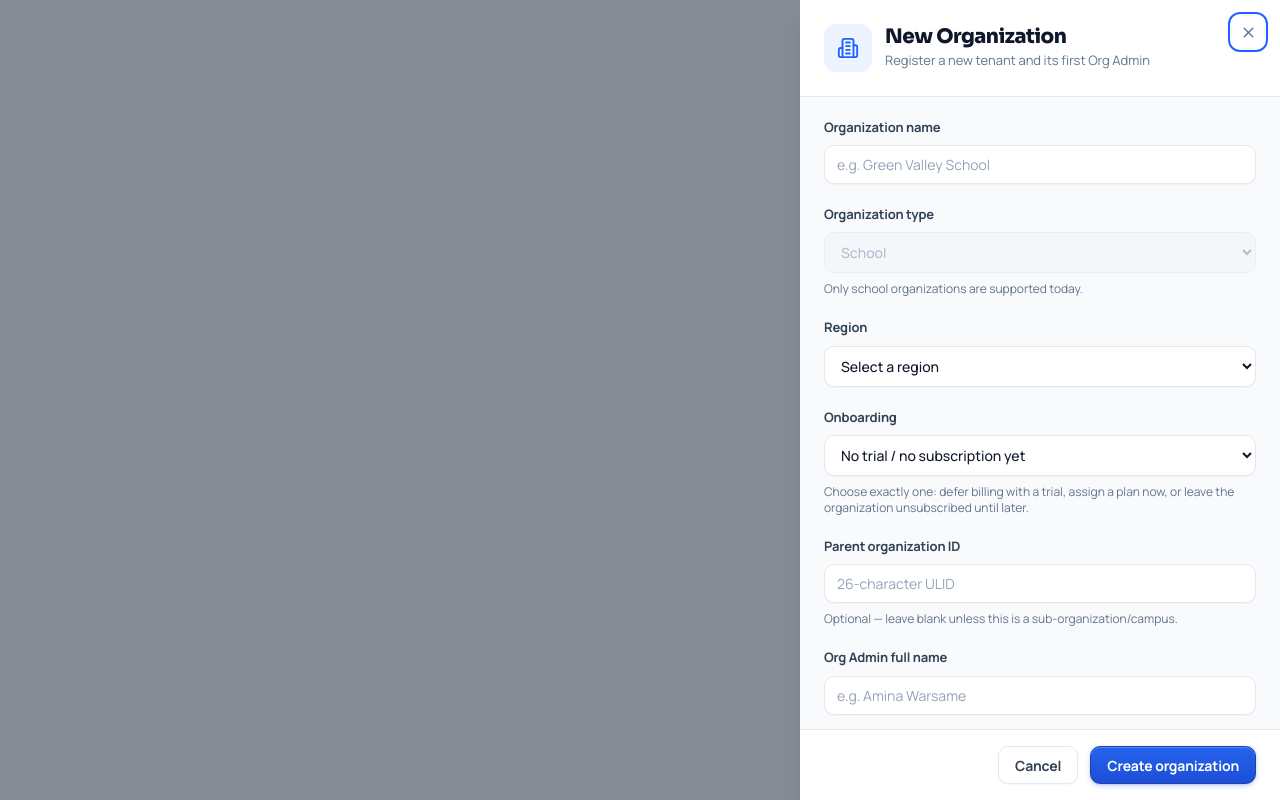
Test case: CreateOrganizationForm › requires at least one of Org Admin email or phone
Type "Green Valley School" into the field with placeholder "e.g. Green Valley School".
click(1040, 165); type("Green Valley School")  # box [824,145,1256,184]
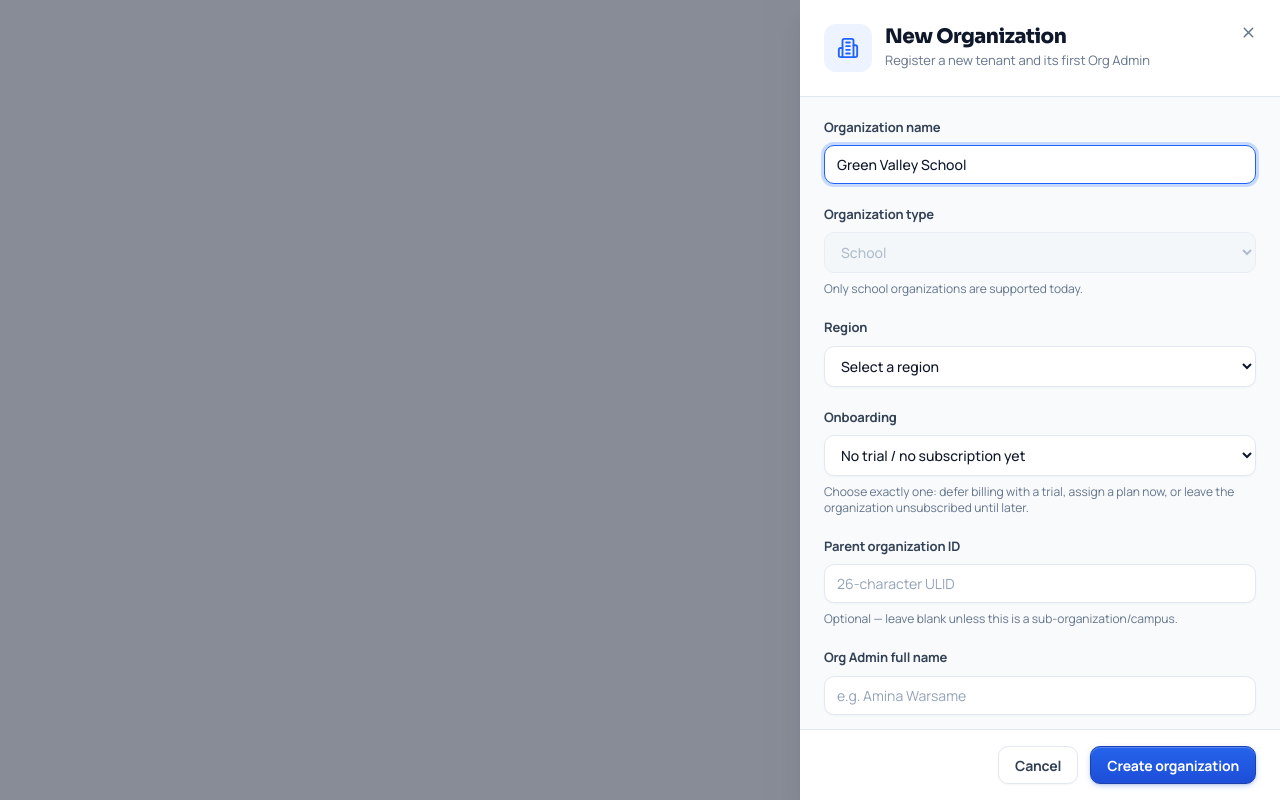
Select "Northern Region" in the dropdown labelled "Region" at (1040, 366), box [824,346,1256,387]
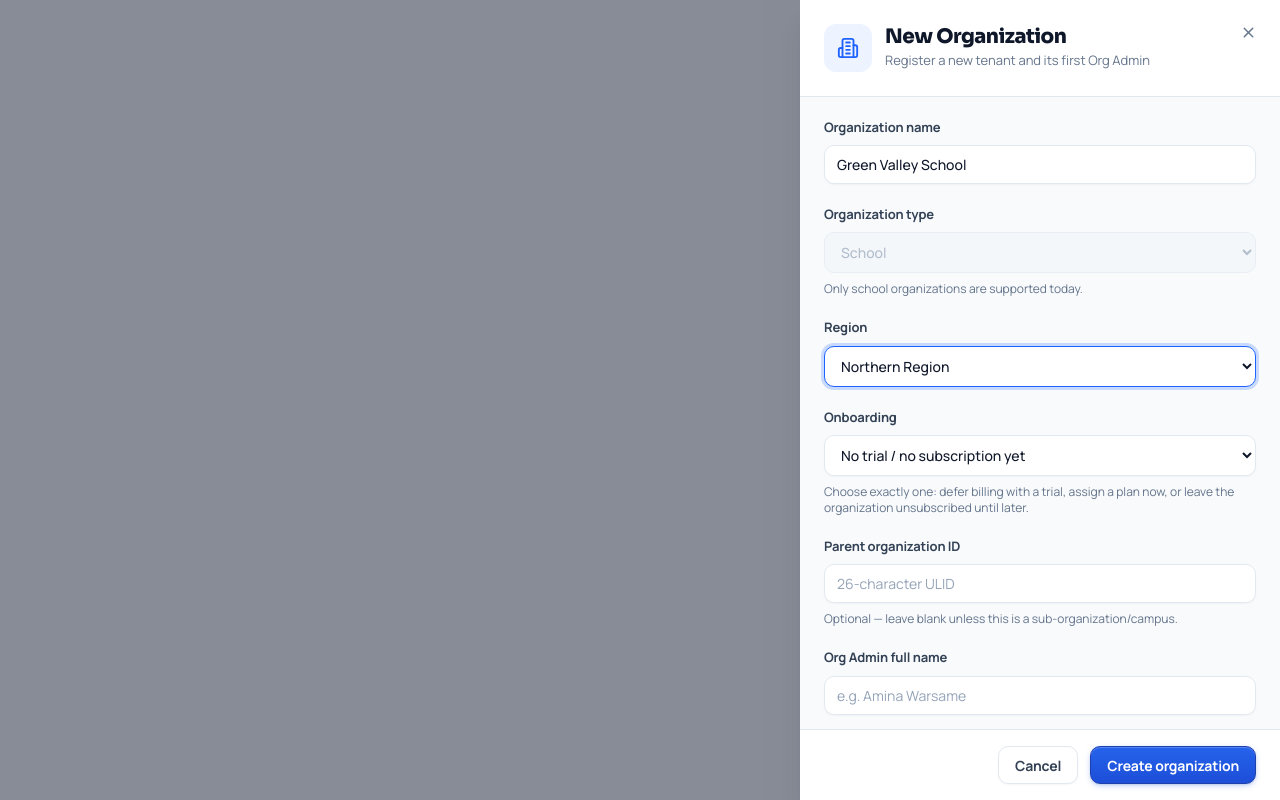
Type "Amina Warsame" into the field with placeholder "e.g. Amina Warsame".
click(1040, 695); type("Amina Warsame")  # box [824,676,1256,715]
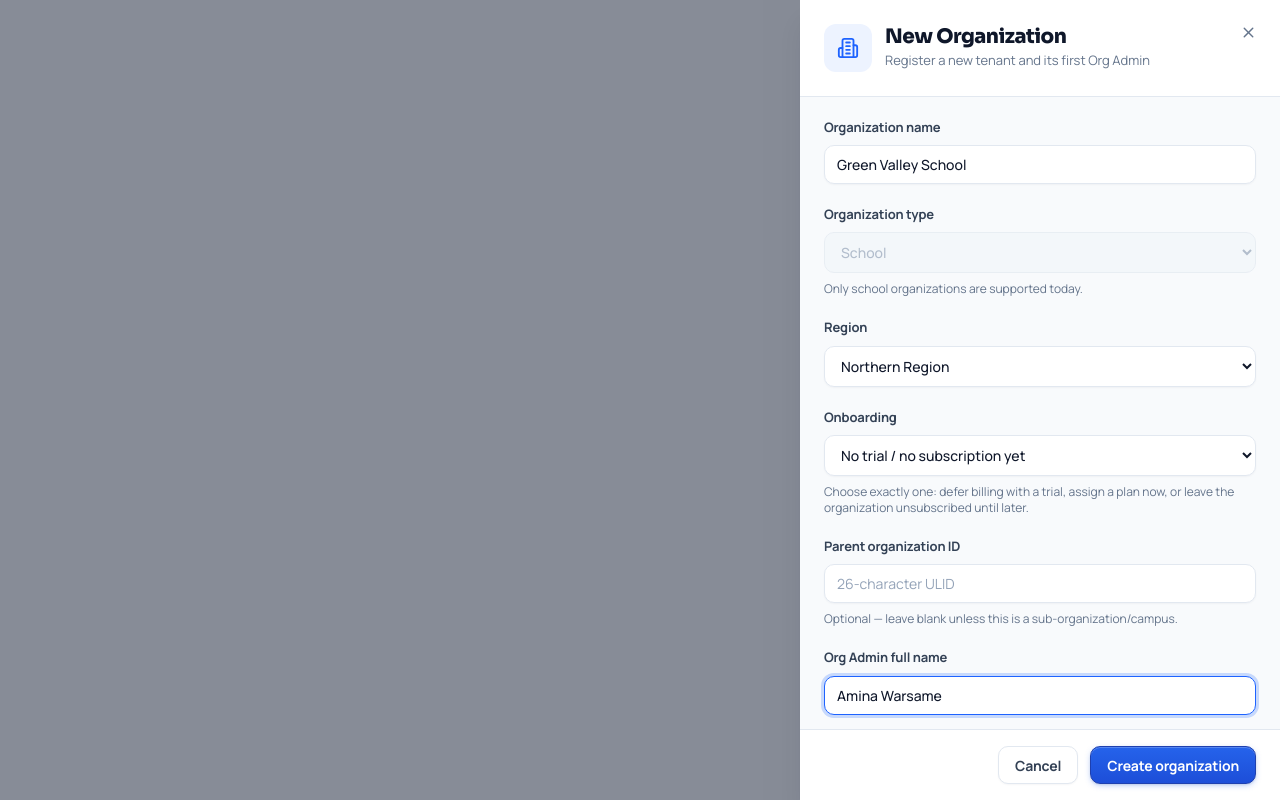
Click the button "Create organization".
click(1173, 765)  # box [1090,746,1256,784]
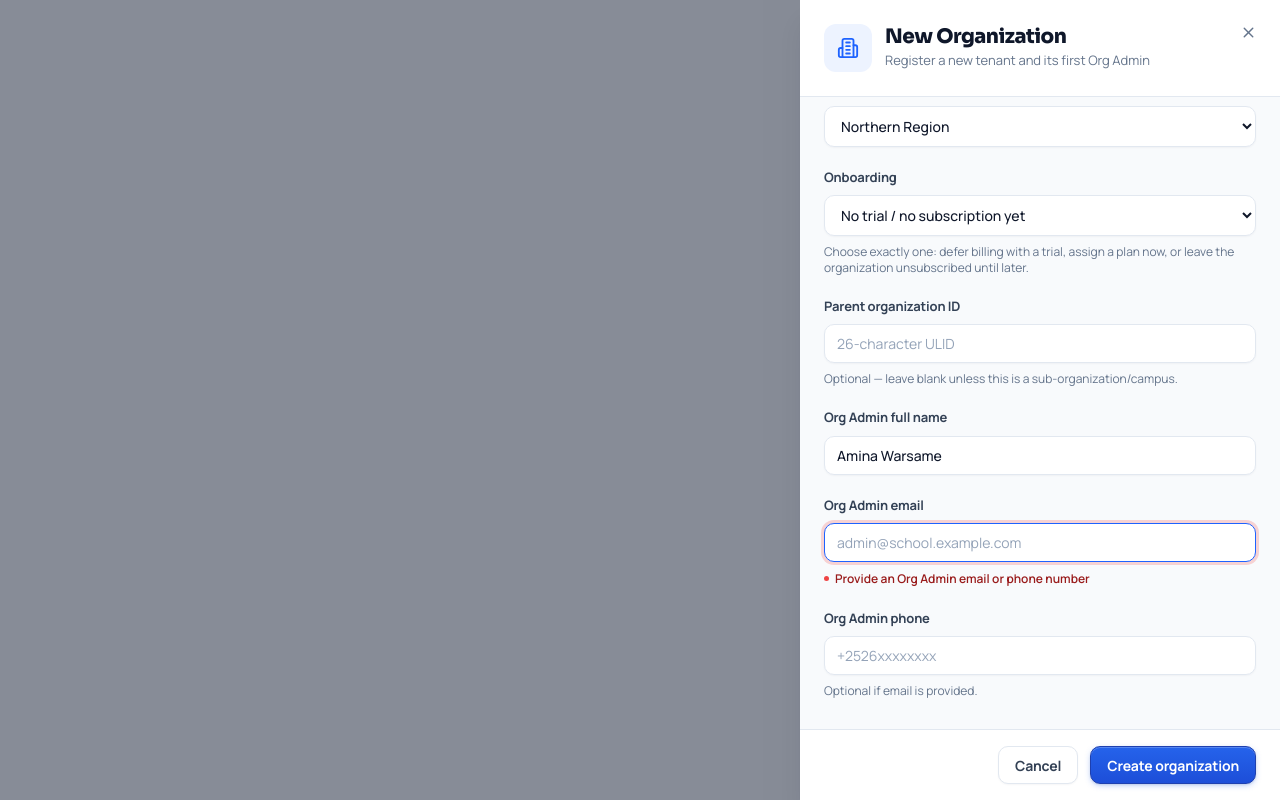
Now the text "Provide an Org Admin email or phone number" is shown, box [835,570,1090,587]
